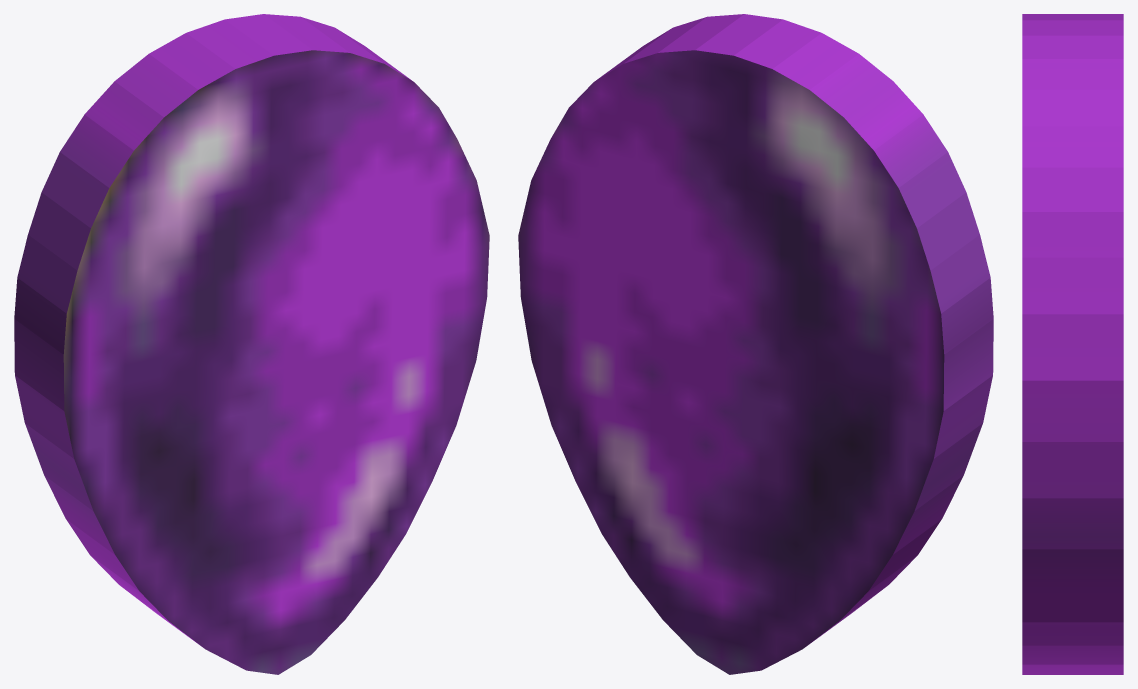
File: Rarity_Epic.glb
3 renders of one model, left to right at view 1: azimuth 30°, elevation 25°; view 2: azimuth 150°, elevation 25°; view 3: azimuth 270°, elevation 25°, orthographic. The views are drawn at different scales.
Parts seen in each view (by area): view 1: Circle; view 2: Circle; view 3: Circle.
Part boxes in pixels (x1=…): Circle: x1=14, y1=14, x2=489, y2=674; Circle: x1=518, y1=14, x2=993, y2=674; Circle: x1=1022, y1=14, x2=1123, y2=674.
Bounding box in the file's own units: 0.4969 × 0.6914 × 0.1.
1 material, 1 textured.
